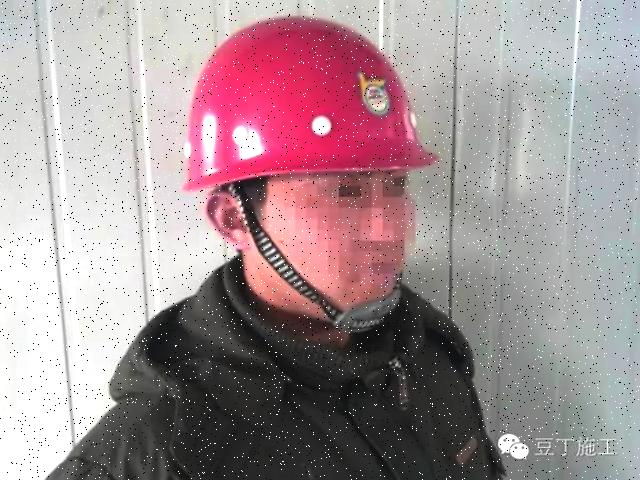Helmet: (169, 6, 444, 199)
